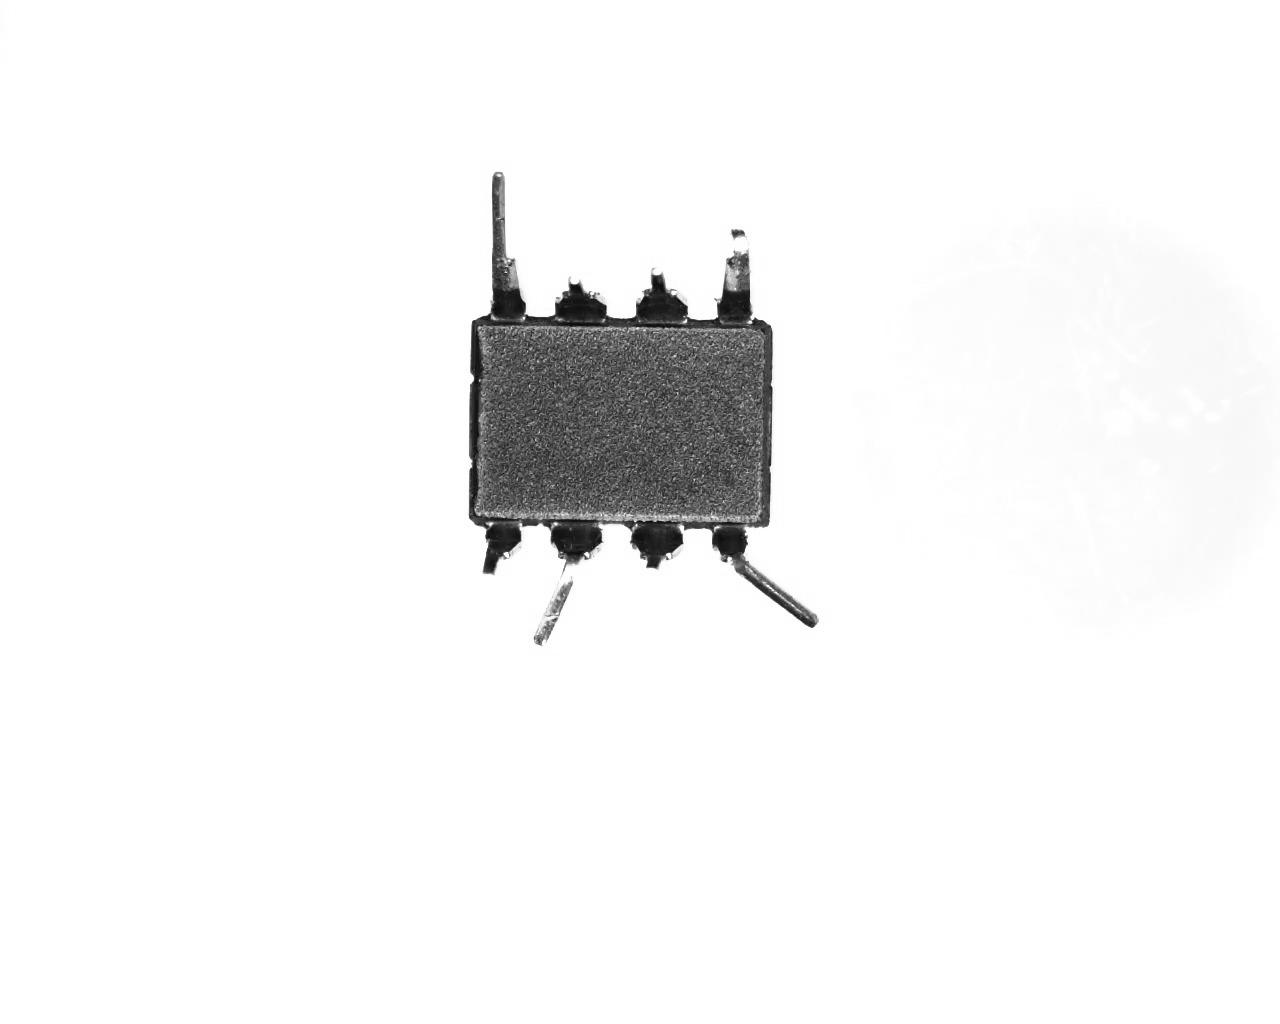Leg: (706, 521, 823, 633), (528, 521, 605, 654), (484, 166, 530, 324), (716, 218, 754, 330)
brokenLeg: (629, 264, 695, 330), (626, 521, 689, 583), (551, 273, 613, 330), (469, 521, 526, 579)
